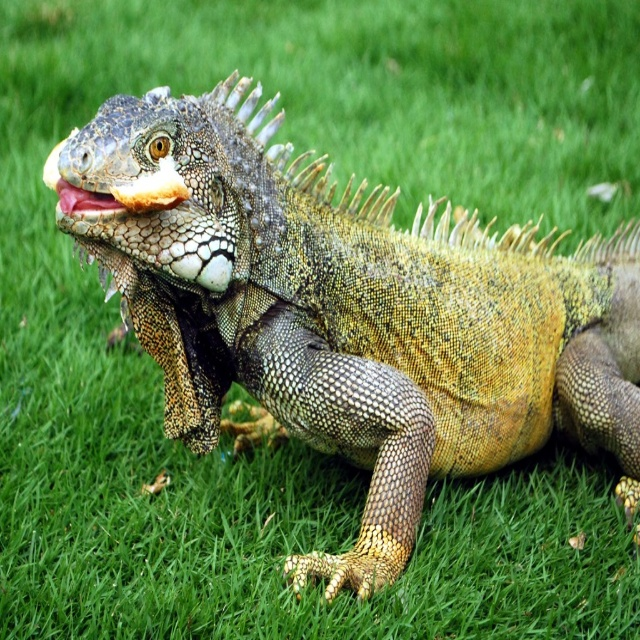Lizard: (42, 69, 640, 610)
